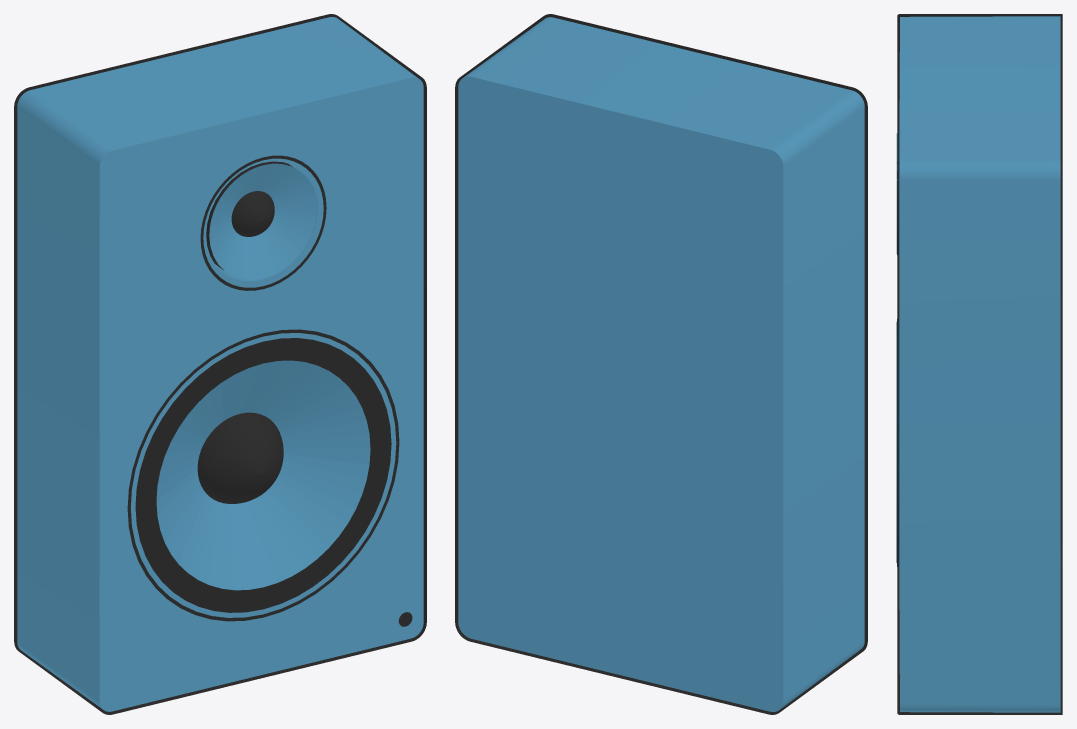
The model's file is SubWoofer.glb.
3 views of the same model, side by side, from view 1: azimuth 30°, elevation 25°; view 2: azimuth 150°, elevation 25°; view 3: azimuth 270°, elevation 25° (orthographic). The views are drawn at different scales.
Parts seen in each view (by area): view 1: BODY_Sub; view 2: BODY_Sub; view 3: BODY_Sub.
Part boxes in pixels (box(x1,y1,x2,y2)): BODY_Sub: box(14, 14, 426, 714); BODY_Sub: box(455, 14, 867, 714); BODY_Sub: box(896, 14, 1062, 714).
Size of the model in its own units: 1.2 by 1.97 by 0.5349.
